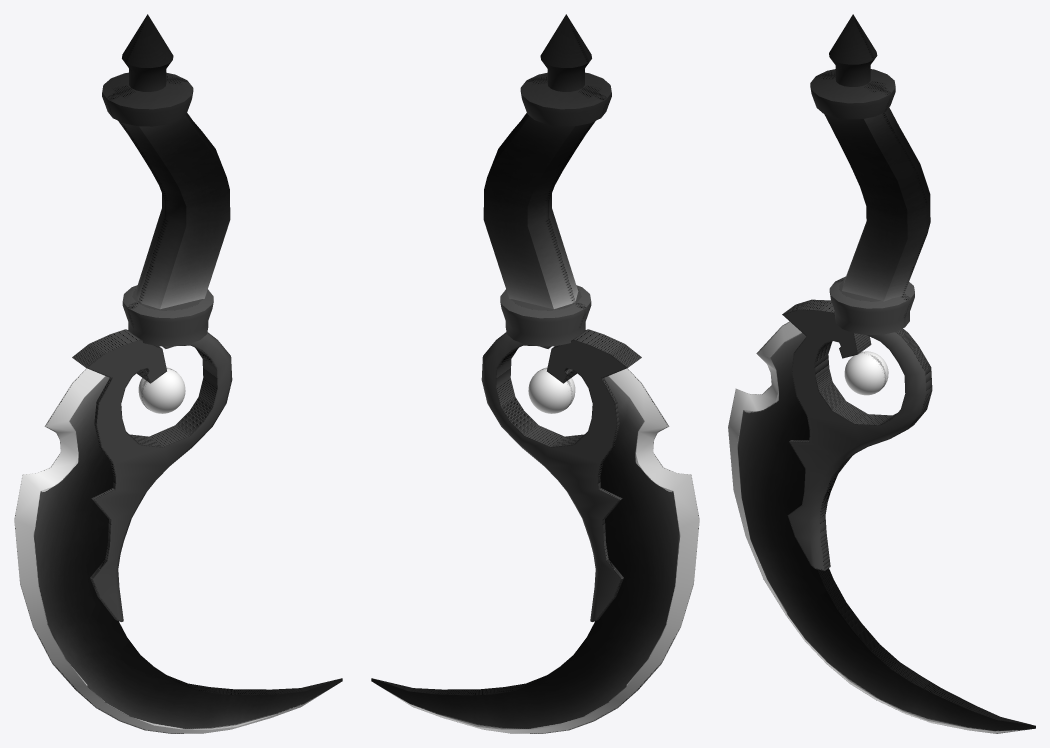
File: FxMesh_Darts_2.fbx
The picture shows the model from 3 angles, left to right: view 1: azimuth 30°, elevation 25°; view 2: azimuth 150°, elevation 25°; view 3: azimuth 330°, elevation 25°; orthographic projection. The views are drawn at different scales.
Parts seen in each view (by area): view 1: FxMesh_Darts_2; view 2: FxMesh_Darts_2; view 3: FxMesh_Darts_2.
Boxes of the visible parts, <box> form: FxMesh_Darts_2: <box>14,14,342,733</box>; FxMesh_Darts_2: <box>371,14,699,733</box>; FxMesh_Darts_2: <box>728,14,1035,733</box>.
Size of the model in its own units: 55.45 by 119 by 13.42.
Materials: 1 (1 with a texture image).
